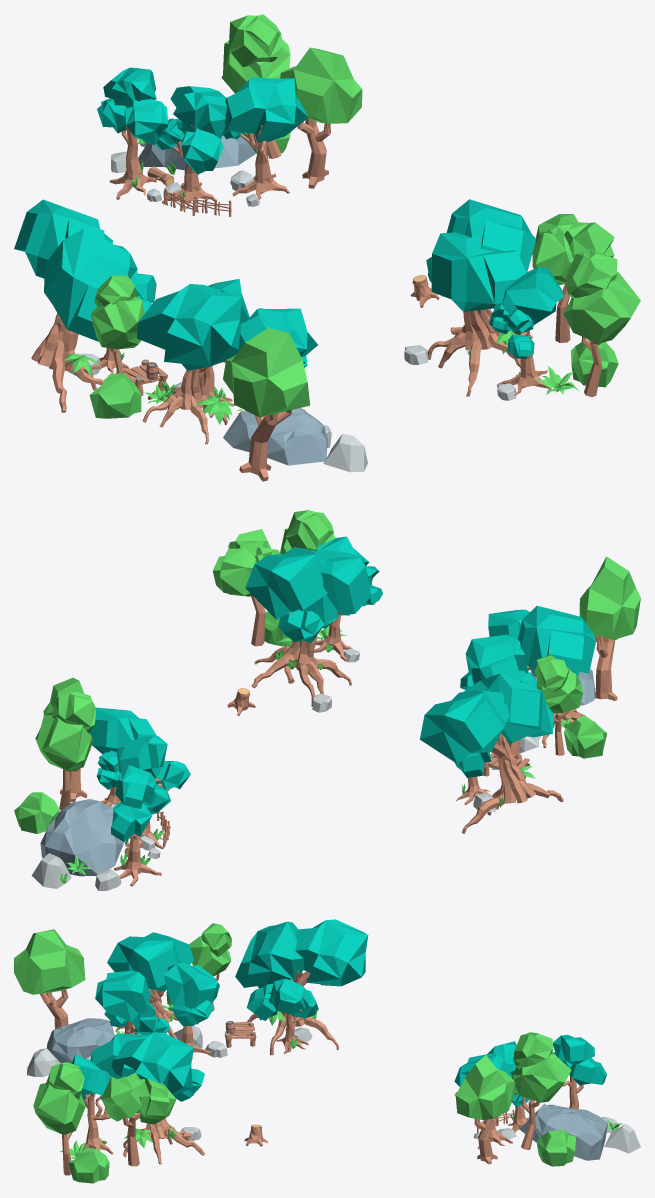
Rendered from forest.glb.
3 renders of one model, top to bottom at view 1: azimuth 30°, elevation 25°; view 2: azimuth 150°, elevation 25°; view 3: azimuth 270°, elevation 25°, orthographic. The views are drawn at different scales.
Visible parts, largest first — view 1: group403363102, group1489245576, group547813215, group313951583, group1045676722, group1634341855, group2035836735, group1890178627, group1573540807, group561706230, group506122935, group624080166 (+19 smaller); view 2: group403363102, group624080166, group1922369548, group443772894, group2035836735, group1489245576, group547813215, group1573540807, group1634341855, group506122935, group1180255365, group937971834 (+16 smaller); view 3: group403363102, group624080166, group2035836735, group1045676722, group443772894, group1573540807, group547813215, group313951583, group1489245576, group1922369548, group734284808, group561706230 (+22 smaller).
Part boxes in pixels (x1,y1,x2,y2): group403363102: [223, 328, 310, 481]; group1489245576: [136, 284, 241, 370]; group547813215: [44, 228, 137, 341]; group313951583: [563, 249, 640, 397]; group1045676722: [280, 47, 362, 188]; group1634341855: [431, 232, 526, 311]; group2035836735: [221, 14, 290, 158]; group1890178627: [224, 77, 308, 142]; group1573540807: [532, 214, 614, 342]; group561706230: [223, 408, 327, 465]; group506122935: [90, 275, 144, 373]; group624080166: [14, 199, 113, 278]; group403363102: [579, 556, 640, 700]; group624080166: [420, 690, 509, 763]; group1922369548: [40, 799, 124, 876]; group443772894: [245, 547, 336, 619]; group2035836735: [35, 691, 95, 809]; group1489245576: [518, 605, 595, 677]; group547813215: [463, 673, 553, 743]; group1573540807: [212, 529, 280, 646]; group1634341855: [309, 549, 371, 622]; group506122935: [534, 654, 583, 755]; group1180255365: [465, 634, 527, 684]; group937971834: [251, 611, 351, 702]; group403363102: [14, 929, 85, 1028]; group624080166: [295, 919, 368, 986]; group2035836735: [512, 1032, 571, 1149]; group1045676722: [455, 1055, 515, 1164]; group443772894: [111, 1032, 193, 1095]; group1573540807: [101, 1072, 176, 1166]; group547813215: [235, 921, 304, 988]; group313951583: [33, 1062, 85, 1175]; group1489245576: [107, 932, 193, 991]; group1922369548: [519, 1103, 607, 1160]; group734284808: [95, 970, 150, 1021]; group561706230: [47, 1018, 114, 1063].
Size of the model in its own units: 1.61 by 0.581 by 2.38.
